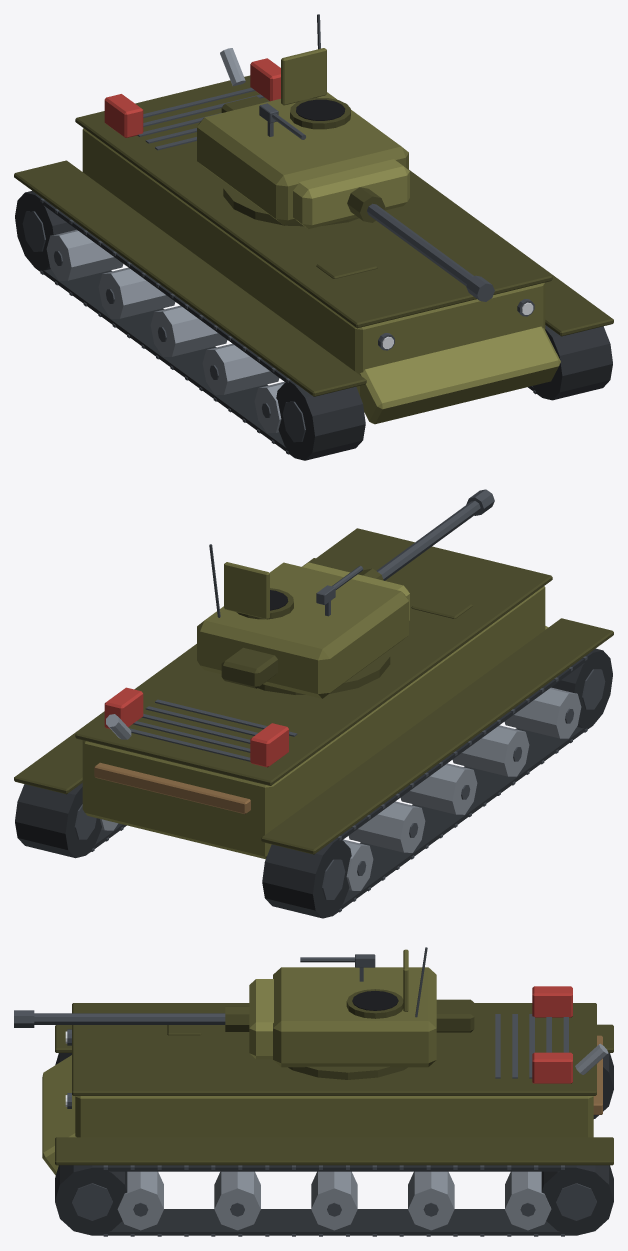
Rendered from tank.glb.
The picture shows the model from 3 angles, top to bottom: view 1: azimuth 30°, elevation 25°; view 2: azimuth 150°, elevation 25°; view 3: azimuth 270°, elevation 25°; orthographic projection. The views are drawn at different scales.
Parts seen in each view (by area): view 1: pieces_kaki_sombre.002, pieces_kaki.002, pieces_fonte.004, tourelle_kaki.002, pieces_kaki_clair.002, chenille_g_acier.002, tourelle_kaki_clair.002, pieces_acier_sombre.006, tourelle_kaki_sombre.002, tourelle_acier_sombre.002, pieces_rouge.004, tourelle_noir.002; view 2: pieces_kaki_sombre.002, pieces_kaki.002, tourelle_kaki.002, pieces_fonte.004, chenille_g_acier.002, pieces_acier_sombre.006, tourelle_kaki_sombre.002, tourelle_acier_sombre.002, pieces_bois.006, pieces_rouge.004, tourelle_kaki_clair.002; view 3: pieces_kaki_sombre.002, pieces_kaki.002, pieces_fonte.004, tourelle_kaki.002, chenille_d_acier.002, pieces_acier_sombre.006, tourelle_kaki_sombre.002, tourelle_acier_sombre.002, pieces_kaki_clair.002, pieces_rouge.004, tourelle_kaki_clair.002, chenille_d_acier_sombre.002 (+3 smaller).
Boxes of the visible parts, bbox=[...] form: pieces_kaki_sombre.002: bbox=[14, 75, 613, 396]; pieces_kaki.002: bbox=[82, 128, 545, 395]; pieces_fonte.004: bbox=[15, 191, 612, 460]; tourelle_kaki.002: bbox=[197, 48, 408, 224]; pieces_kaki_clair.002: bbox=[360, 326, 560, 424]; chenille_g_acier.002: bbox=[46, 229, 285, 433]; tourelle_kaki_clair.002: bbox=[293, 159, 409, 228]; pieces_acier_sombre.006: bbox=[22, 87, 536, 454]; tourelle_kaki_sombre.002: bbox=[221, 96, 385, 226]; tourelle_acier_sombre.002: bbox=[259, 14, 494, 301]; pieces_rouge.004: bbox=[104, 58, 280, 137]; tourelle_noir.002: bbox=[296, 99, 345, 120]; pieces_kaki_sombre.002: bbox=[14, 528, 613, 854]; pieces_kaki.002: bbox=[82, 586, 545, 859]; tourelle_kaki.002: bbox=[197, 562, 408, 698]; pieces_fonte.004: bbox=[15, 648, 612, 918]; chenille_g_acier.002: bbox=[342, 687, 581, 890]; pieces_acier_sombre.006: bbox=[74, 656, 605, 912]; tourelle_kaki_sombre.002: bbox=[221, 568, 390, 694]; tourelle_acier_sombre.002: bbox=[209, 489, 494, 617]; pieces_bois.006: bbox=[94, 762, 250, 814]; pieces_rouge.004: bbox=[104, 687, 288, 767]; tourelle_kaki_clair.002: bbox=[302, 562, 409, 620]; pieces_kaki_sombre.002: bbox=[55, 1003, 613, 1165]; pieces_kaki.002: bbox=[75, 1096, 593, 1137]; pieces_fonte.004: bbox=[55, 1053, 613, 1235]; tourelle_kaki.002: bbox=[273, 949, 436, 1067]; chenille_d_acier.002: bbox=[117, 1171, 551, 1230]; pieces_acier_sombre.006: bbox=[67, 1014, 596, 1236]; tourelle_kaki_sombre.002: bbox=[225, 989, 474, 1079]; tourelle_acier_sombre.002: bbox=[14, 947, 427, 1027]; pieces_kaki_clair.002: bbox=[42, 1055, 76, 1175]; pieces_rouge.004: bbox=[532, 986, 572, 1083]; tourelle_kaki_clair.002: bbox=[249, 979, 273, 1059]; chenille_d_acier_sombre.002: bbox=[133, 1202, 535, 1216].
Size of the model in its own units: 2.4 by 1.99 by 4.4.
